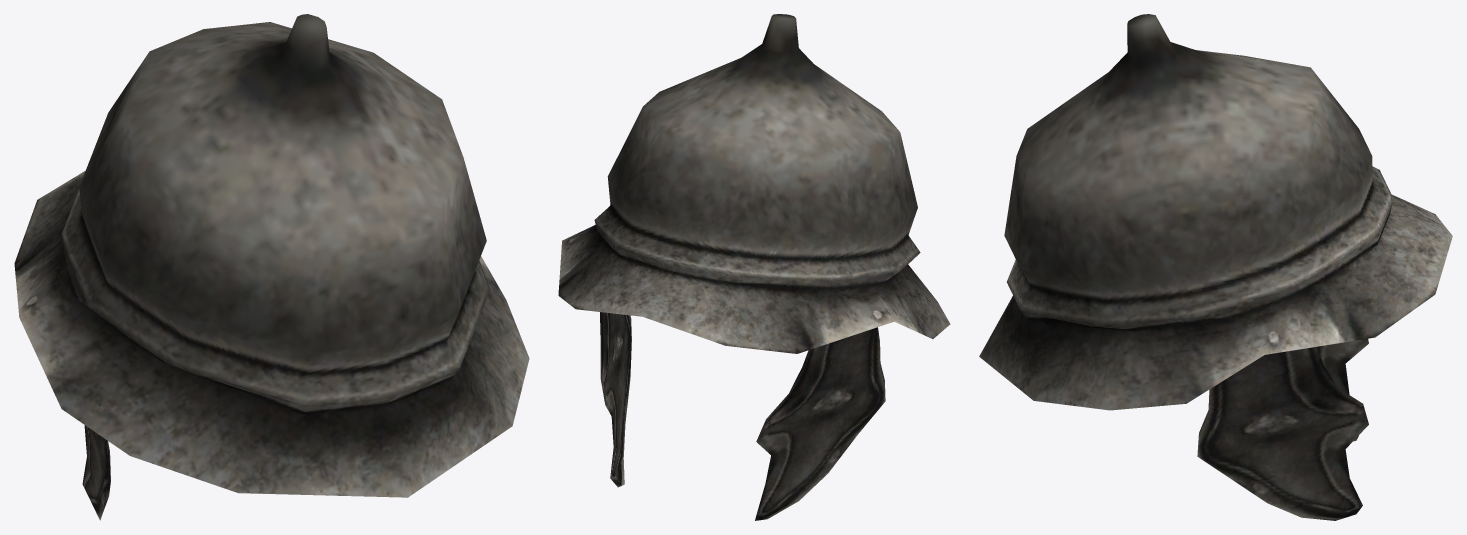
Rendered from helm_celt_helmet_foret.glb.
The picture shows the model from 3 angles, left to right: view 1: azimuth 30°, elevation 25°; view 2: azimuth 150°, elevation 25°; view 3: azimuth 270°, elevation 25°; orthographic projection. The views are drawn at different scales.
Parts seen in each view (by area): view 1: helm_celt_helmet_foret_part0; view 2: helm_celt_helmet_foret_part0; view 3: helm_celt_helmet_foret_part0.
Part boxes in pixels (x1,y1,x2,y2): helm_celt_helmet_foret_part0: (14,14,529,520); helm_celt_helmet_foret_part0: (558,14,950,520); helm_celt_helmet_foret_part0: (979,14,1452,520).
Size of the model in its own units: 0.6691 by 0.7989 by 0.7368.
Materials: 1 (1 with a texture image).
